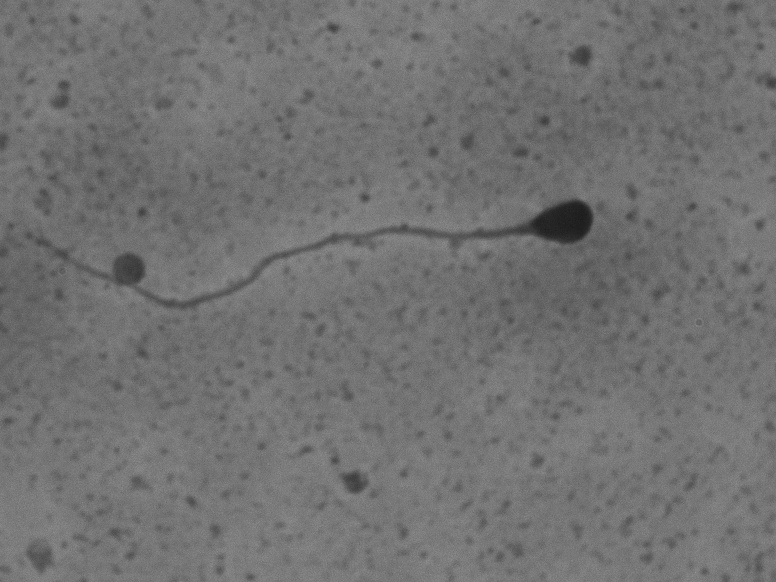Abnormal: (21, 146, 609, 361)
